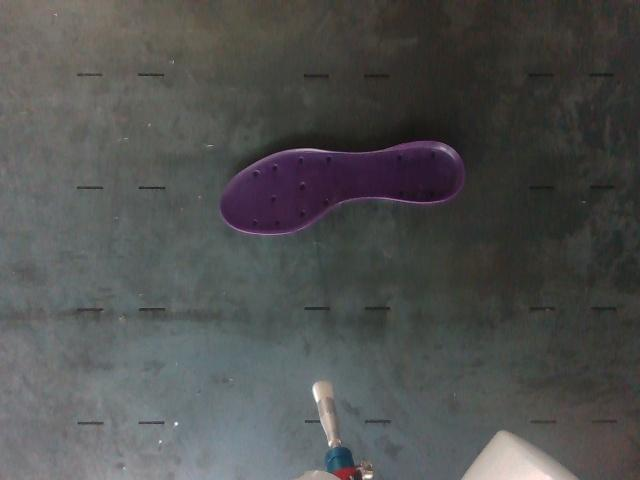shoes: (222, 142, 463, 234)
